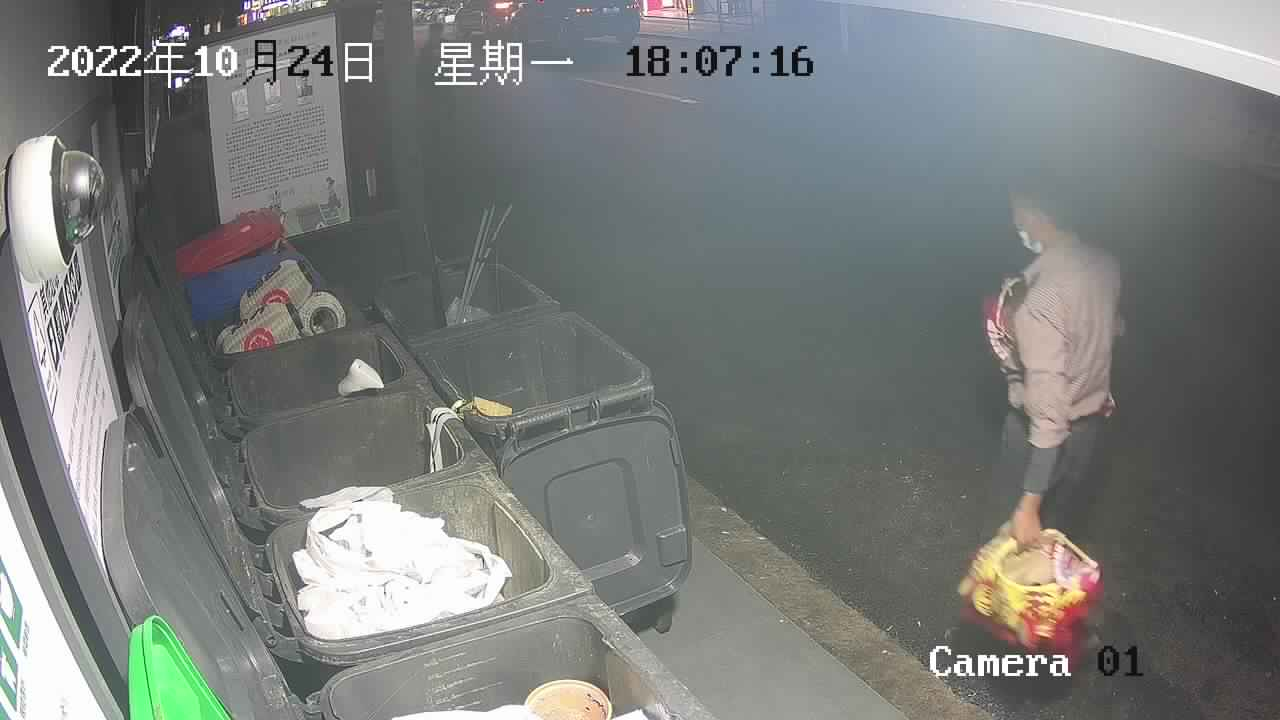person: (954, 170, 1124, 675)
